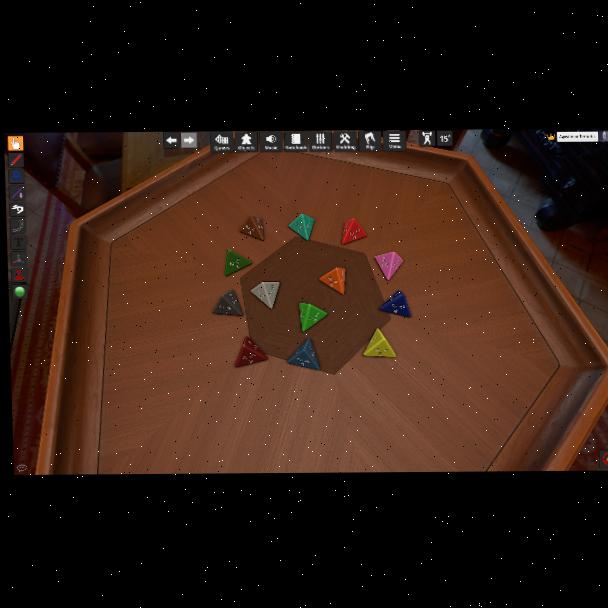d4: (287, 339, 321, 371), (233, 337, 268, 368), (364, 329, 397, 358), (249, 281, 280, 309), (374, 251, 402, 281), (379, 292, 410, 319), (300, 303, 327, 332), (212, 290, 242, 316), (224, 249, 252, 276), (287, 214, 314, 241), (319, 268, 346, 295), (239, 214, 265, 241), (341, 218, 365, 245)
